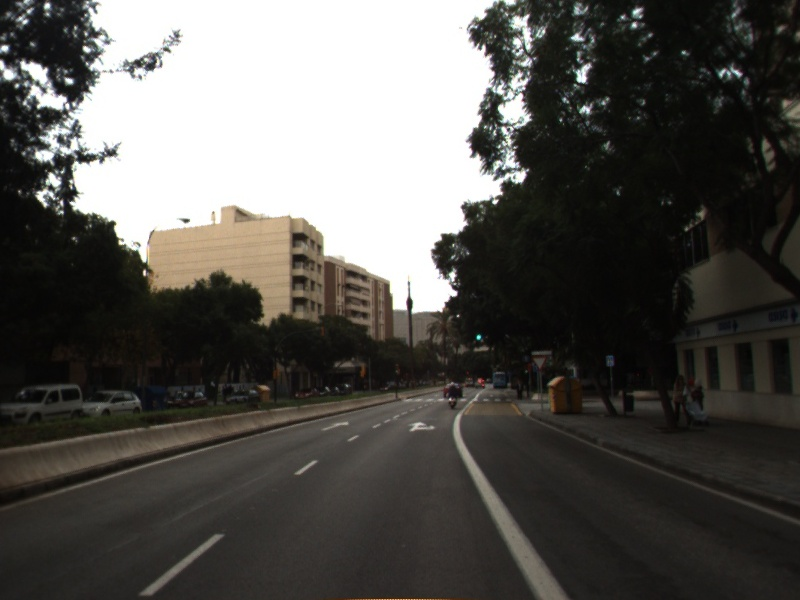STRAIGHT: (319, 419, 351, 433)
STRAIGHT_RIGHT: (405, 419, 439, 434)
